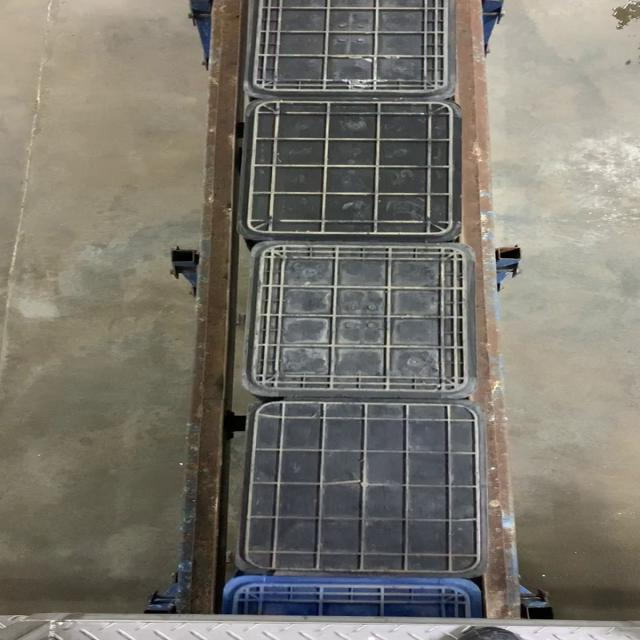Box: (232, 399, 492, 577), (245, 242, 482, 398), (242, 98, 458, 242)
